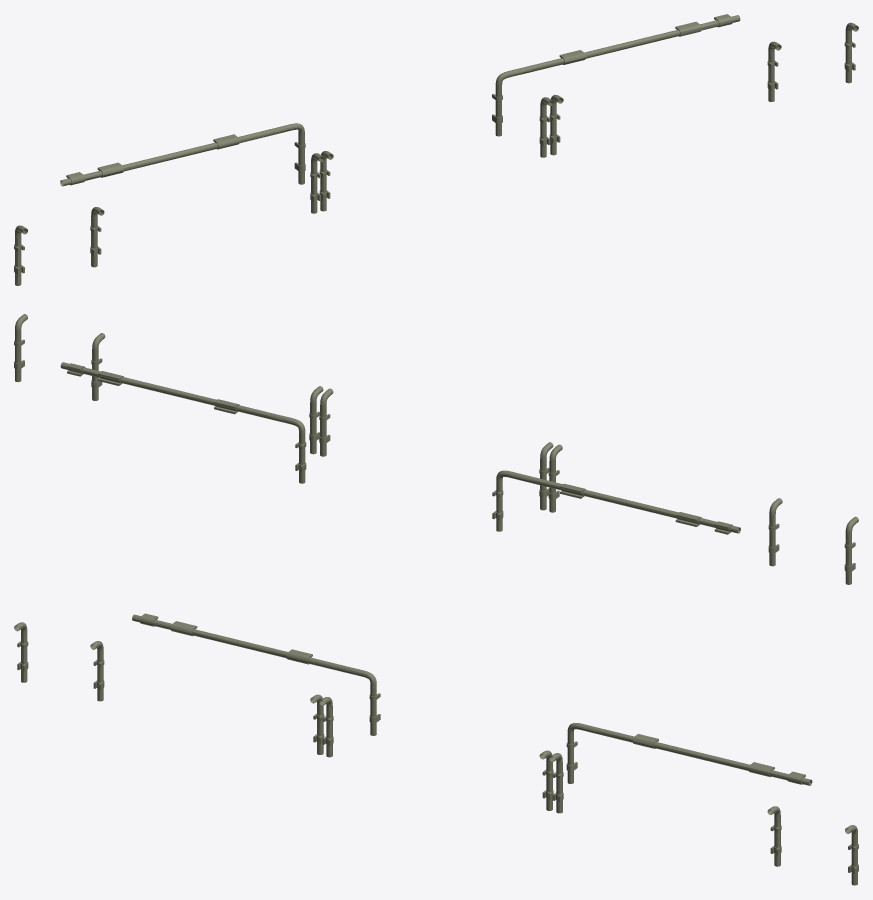
Rendered from Pipes_Deco.fbx.
3 renders of one model, top to bottom at view 1: azimuth 30°, elevation 25°; view 2: azimuth 150°, elevation 25°; view 3: azimuth 330°, elevation 25°, orthographic.
Visible parts, largest first — view 1: Pipes; view 2: Pipes; view 3: Pipes.
Boxes of the visible parts, box(x1,y1,x2,y2) form: Pipes: box(14, 14, 858, 285); Pipes: box(14, 314, 858, 584); Pipes: box(14, 613, 858, 885).
Size of the model in its own units: 3006 by 213 by 271.
